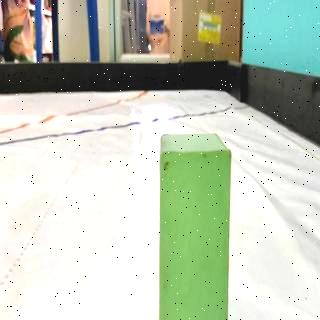greenbox: (158, 132, 234, 320)
